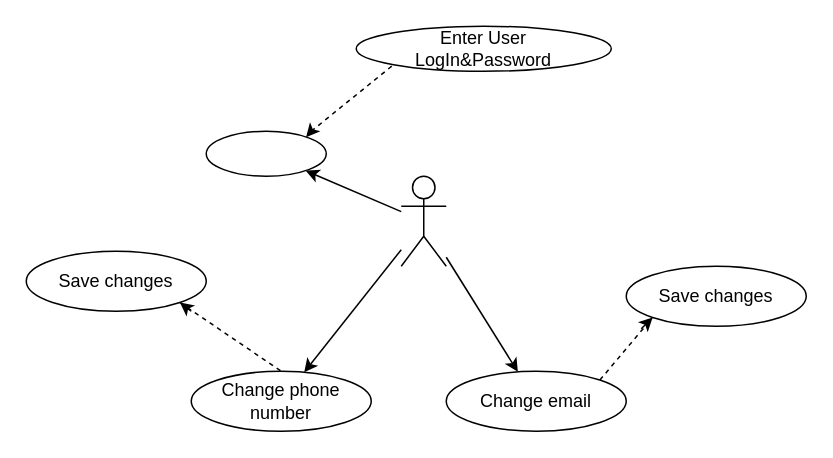
Image size: 833x458. Some labels were removed from this diagram. Here are the shapes that lost their labels. From the top down, the centre of each, then its label:
the point at 265,153: LogIn
the point at 423,220: User
